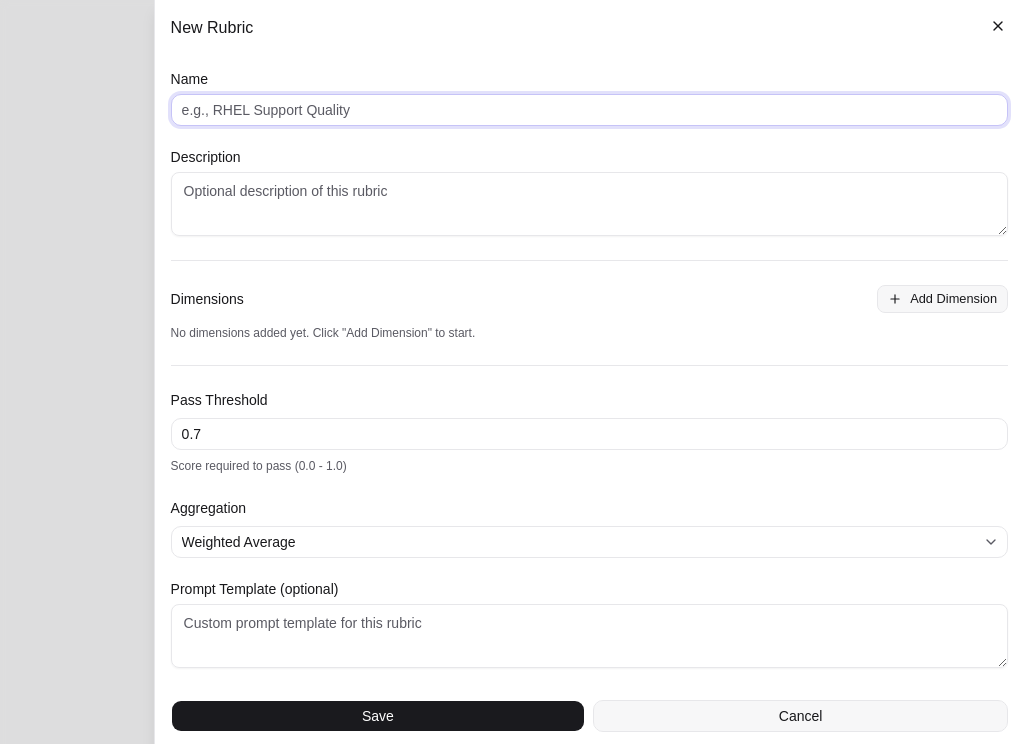
Test: RubricBuilder › can add a criterion to a dimension
Note: Add a dimension first
Click the button "Add Dimension" at {"x": 943, "y": 299}, box [877,285,1008,313]
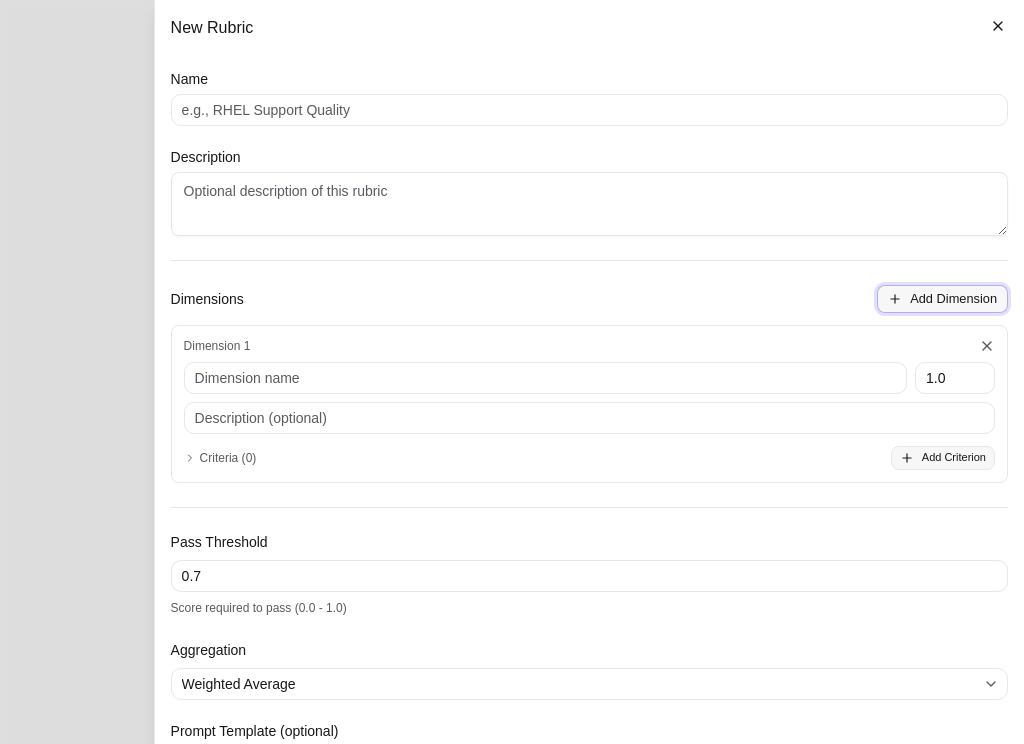
Check: the button "Criteria (0)" is shown, box [184,450,256,466]
Note: Click "Add Criterion"
Click the button "Add Criterion" at {"x": 943, "y": 458}, box [891,446,995,470]
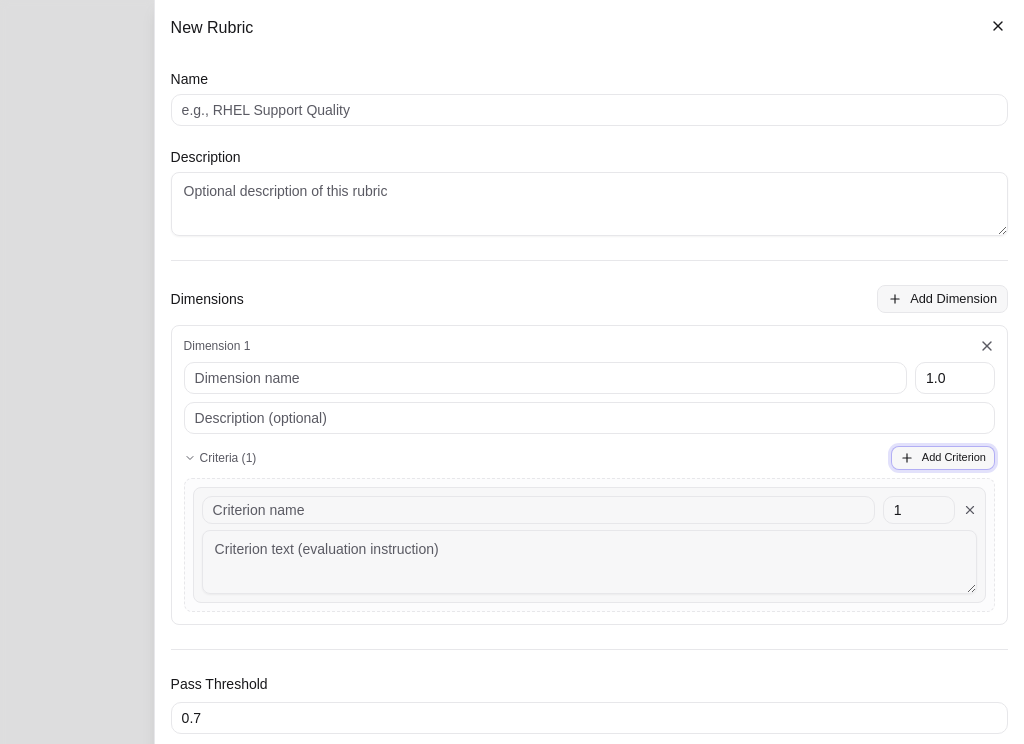
Check: the button "Criteria (1)" is shown, box [184,450,256,466]
Check: the field with placeholder "Criterion name" is shown, box [202,496,875,524]
